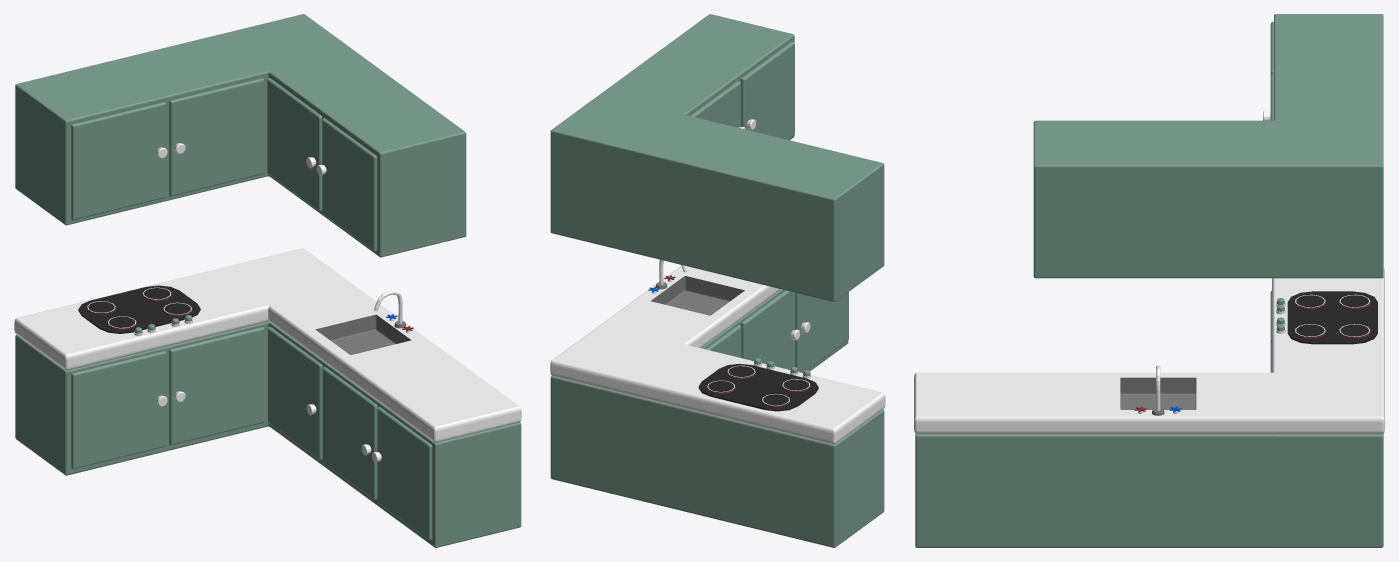
The model's file is Kitchen_4.fbx.
3 views of the same model, side by side, from view 1: azimuth 30°, elevation 25°; view 2: azimuth 150°, elevation 25°; view 3: azimuth 270°, elevation 25° (orthographic). The views are drawn at different scales.
Parts seen in each view (by area): view 1: Kitchen_4, Kitchen_4 Door_9, Kitchen_4 Door_5, Kitchen_4 Door_8, Kitchen_4 Door_4, Kitchen_4 Door_6, Kitchen_4 Door_1, Kitchen_4 Door_2, Kitchen_4 Door_7, Kitchen_4 Door_3; view 2: Kitchen_4, Kitchen_4 Door_6, Kitchen_4 Door_2, Kitchen_4 Door_1, Kitchen_4 Door_7, Kitchen_4 Door_3; view 3: Kitchen_4.
Part boxes in pixels (bbox=[...]): Kitchen_4: bbox=[14, 14, 521, 547]; Kitchen_4 Door_9: bbox=[71, 102, 167, 220]; Kitchen_4 Door_5: bbox=[71, 351, 167, 469]; Kitchen_4 Door_8: bbox=[169, 78, 264, 196]; Kitchen_4 Door_4: bbox=[169, 327, 264, 445]; Kitchen_4 Door_6: bbox=[316, 118, 377, 251]; Kitchen_4 Door_1: bbox=[372, 407, 432, 540]; Kitchen_4 Door_2: bbox=[322, 367, 377, 500]; Kitchen_4 Door_7: bbox=[267, 78, 322, 211]; Kitchen_4 Door_3: bbox=[268, 326, 322, 460]; Kitchen_4: bbox=[550, 14, 885, 547]; Kitchen_4 Door_6: bbox=[740, 41, 794, 139]; Kitchen_4 Door_2: bbox=[741, 290, 800, 369]; Kitchen_4 Door_1: bbox=[795, 292, 848, 372]; Kitchen_4 Door_7: bbox=[690, 81, 745, 129]; Kitchen_4 Door_3: bbox=[705, 325, 741, 357]; Kitchen_4: bbox=[914, 14, 1384, 547].
Bounding box in the file's own units: 2.18 × 2.55 × 2.84.
